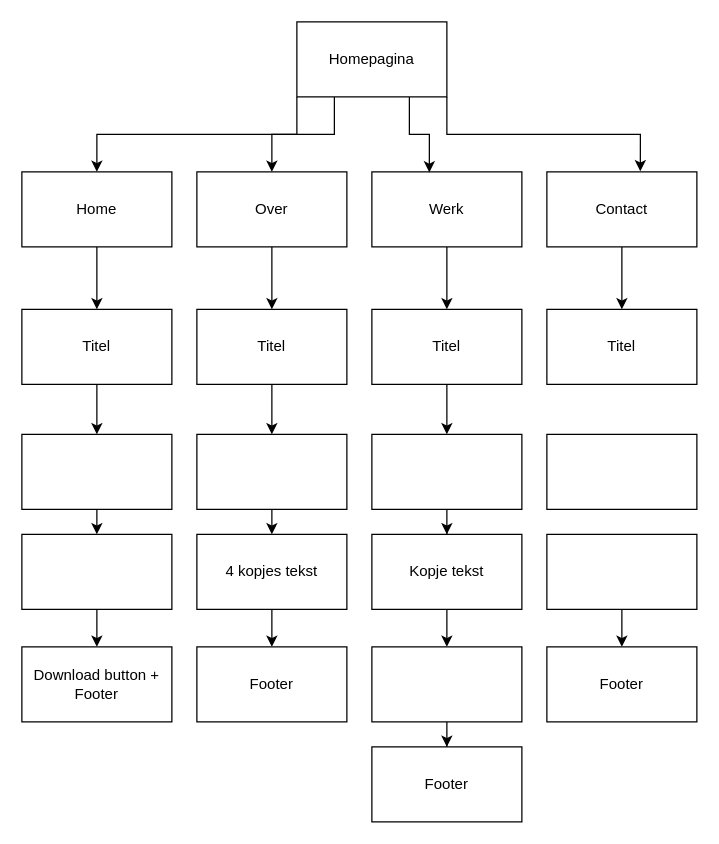
Image size: 719x844. Some labels were removed from this diagram. Here are the shapes that lost their labels. From the top down, the centre of each, then its label:
At point (96, 471): "Uitgelichte projecten (3 afbeeldingen grid)".
At point (271, 471): "Illustratie/afbeelding".
At point (446, 471): "Grid met 4 afbeeldingen".
At point (621, 471): "Contact formulier (4 vakjes + 1 button in laatste vakje)".
At point (96, 571): "Tekst + Illustratie/afbeelding".
At point (621, 571): "Image carousel".
At point (446, 684): "3 afbeeldingen grid".
